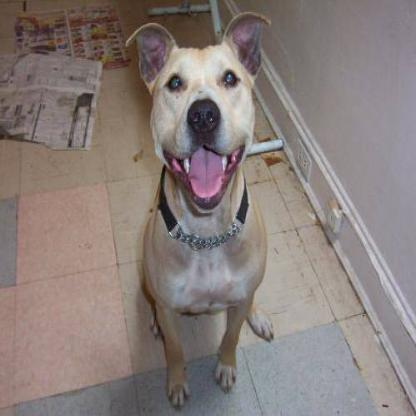dog: (115, 21, 300, 416)
